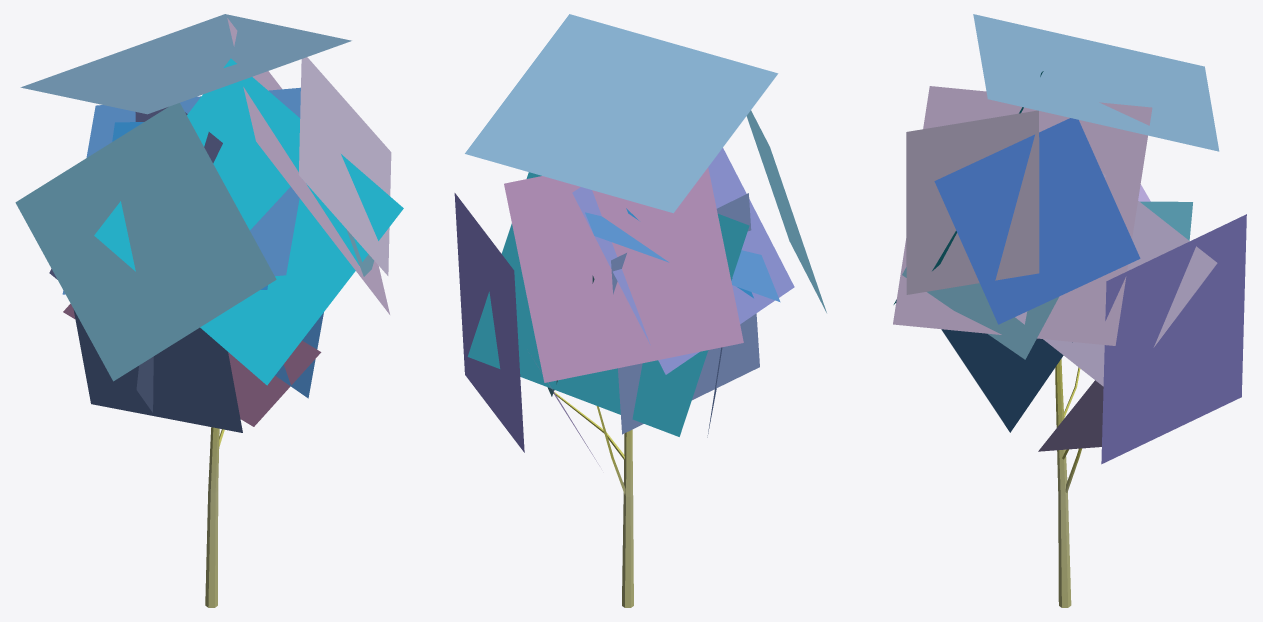
File: tree_aspen_2.glb
3 views of the same model, side by side, from view 1: azimuth 30°, elevation 25°; view 2: azimuth 150°, elevation 25°; view 3: azimuth 270°, elevation 25° (orthographic). The views are drawn at different scales.
Parts seen in each view (by area): view 1: tree_aspen_2; view 2: tree_aspen_2; view 3: tree_aspen_2.
Boxes of the visible parts, bbox=[...] form: tree_aspen_2: bbox=[15, 14, 403, 607]; tree_aspen_2: bbox=[454, 14, 826, 607]; tree_aspen_2: bbox=[893, 14, 1246, 607].
Size of the model in its own units: 7.78 by 11.78 by 7.57.
